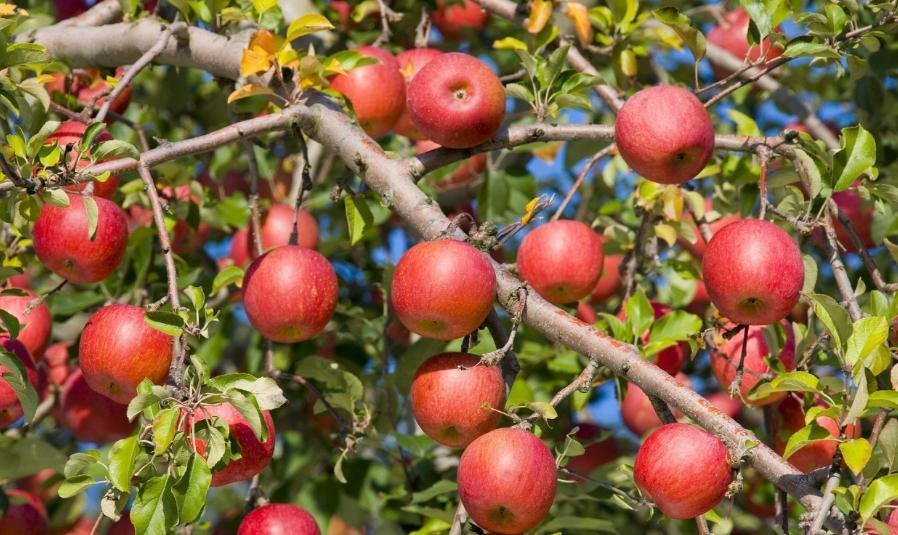apple: (699, 218, 808, 328), (389, 239, 499, 340), (455, 428, 557, 534), (611, 86, 716, 188), (406, 50, 509, 151), (633, 422, 737, 520), (171, 391, 276, 488), (240, 245, 341, 344), (77, 306, 180, 403), (31, 190, 129, 287), (410, 350, 509, 445), (323, 48, 409, 143), (517, 218, 607, 303), (233, 205, 321, 268), (1, 290, 52, 366)
